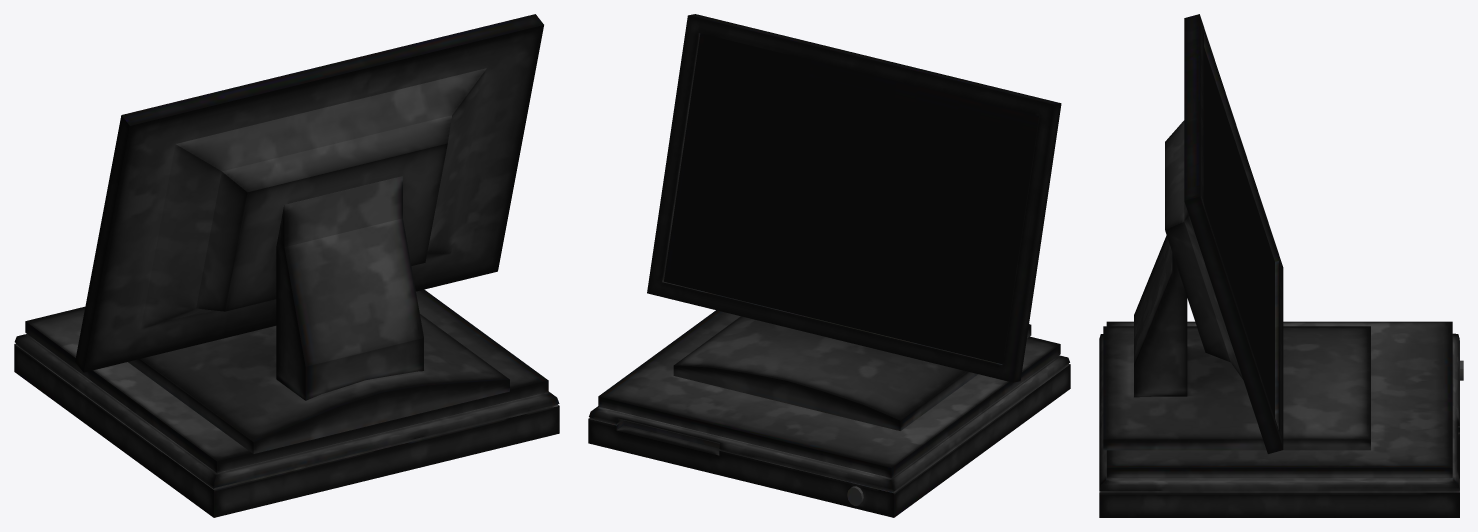
The model's file is kasa.fbx.
3 renders of one model, left to right at view 1: azimuth 30°, elevation 25°; view 2: azimuth 150°, elevation 25°; view 3: azimuth 270°, elevation 25°, orthographic. The views are drawn at different scales.
Visible parts, largest first — view 1: kasa_low.001; view 2: kasa_low.001; view 3: kasa_low.001.
Part boxes in pixels (x1,y1,x2,y2): kasa_low.001: [14, 14, 559, 517]; kasa_low.001: [588, 14, 1070, 517]; kasa_low.001: [1099, 14, 1463, 517].
Size of the model in its own units: 111 by 94.78 by 93.43.
